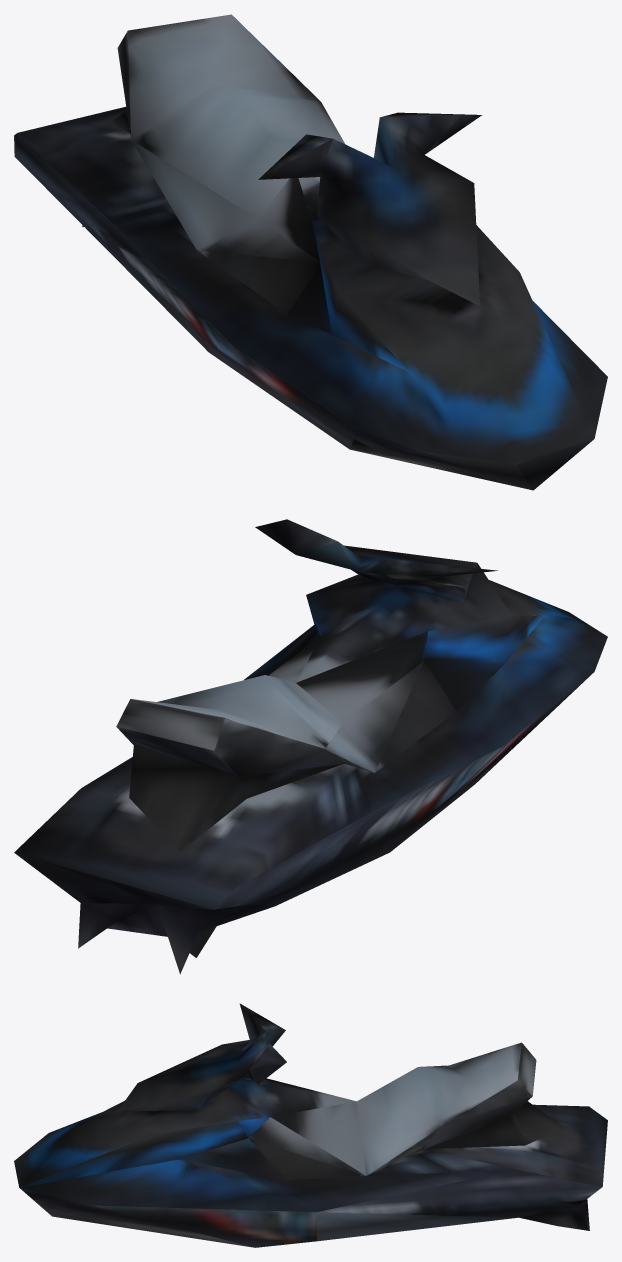
Rendered from jetski.glb.
The picture shows the model from 3 angles, top to bottom: view 1: azimuth 30°, elevation 25°; view 2: azimuth 150°, elevation 25°; view 3: azimuth 270°, elevation 25°; orthographic projection. The views are drawn at different scales.
Parts seen in each view (by area): view 1: JetSki; view 2: JetSki; view 3: JetSki.
Boxes of the visible parts, box(x1,y1,x2,y2) form: JetSki: box(14, 14, 607, 490); JetSki: box(14, 519, 607, 974); JetSki: box(14, 1003, 607, 1247).
Bounding box in the file's own units: 1.05 × 0.9925 × 2.87.
1 material, 1 textured.
